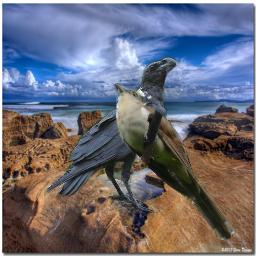Crow: (44, 55, 181, 213)
Cuckoo: (114, 83, 235, 240)
